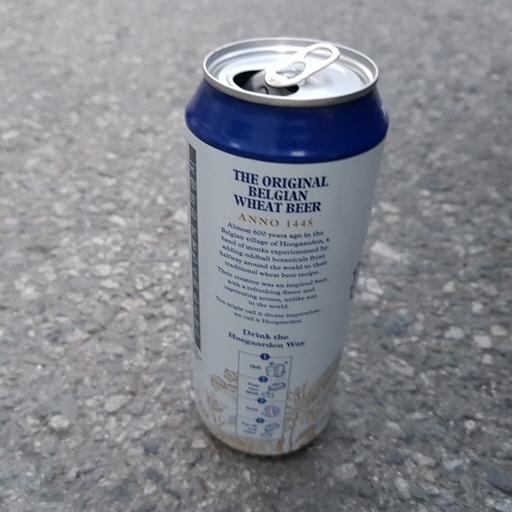Metal_0: (179, 36, 390, 453)
